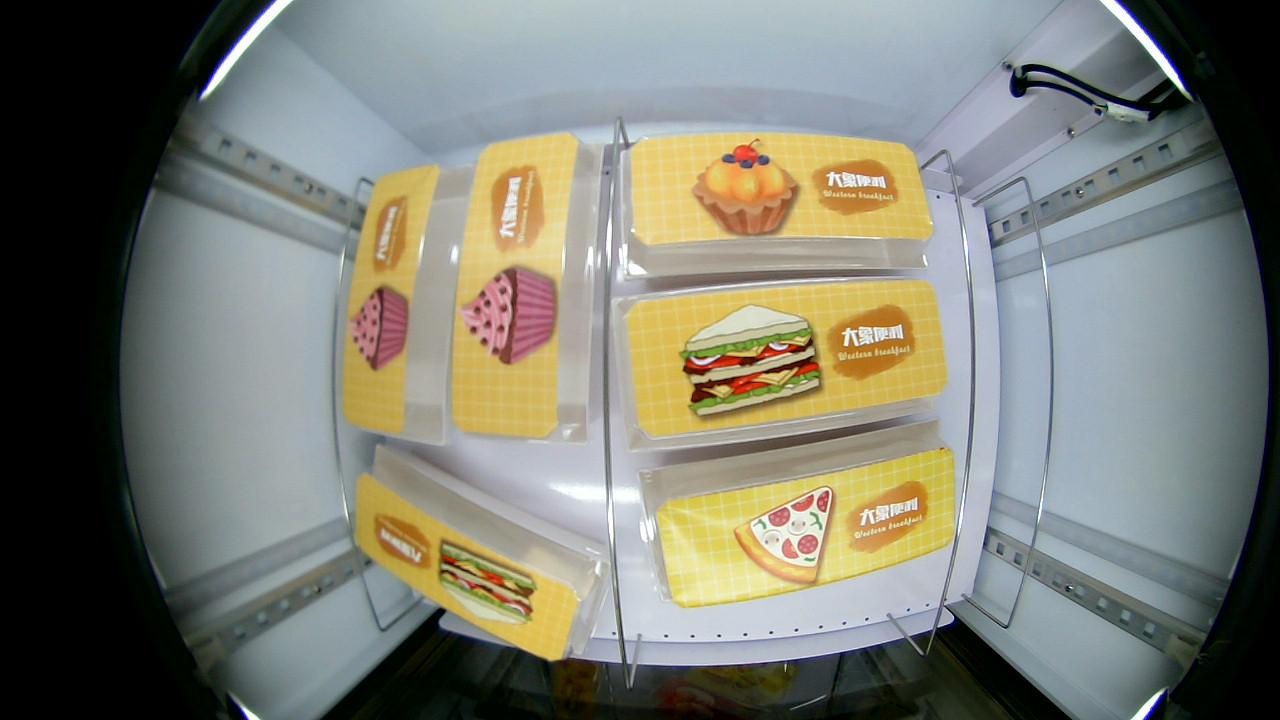goods: (678, 305, 821, 416), (689, 132, 798, 239), (453, 262, 564, 365), (732, 485, 842, 582), (435, 538, 537, 626), (347, 282, 411, 372)
